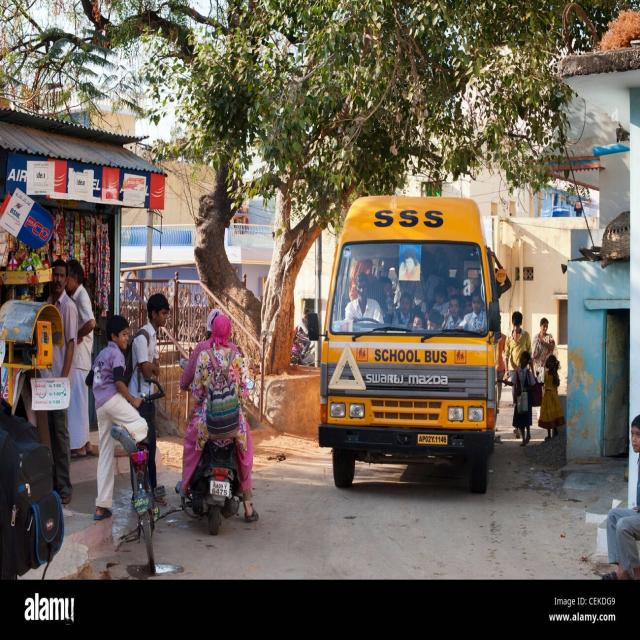bus: (303, 196, 500, 493)
motorcycle: (176, 311, 259, 534)
